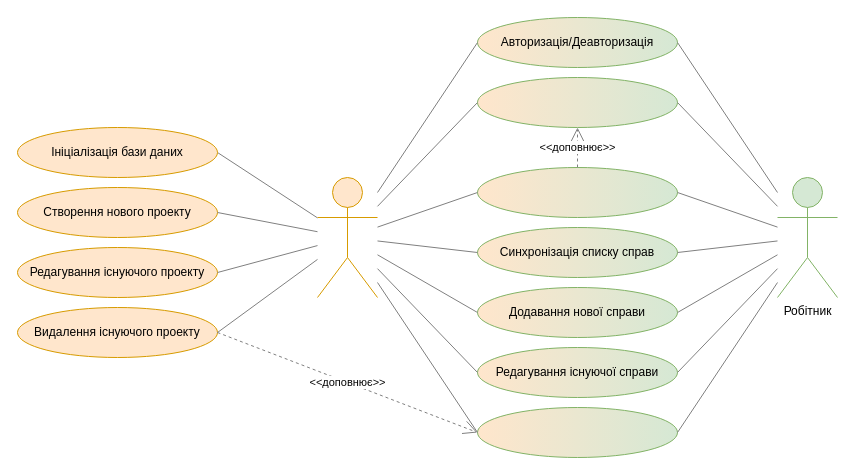
This 855x475 diagram has some shape labels left out. Here are the shapes that lost their labels. From the top down, the centre of each, then its label:
At (x=577, y=102): "Перегляд існуючих справ".
At (x=577, y=192): "Пошук існуючої справи за певними критеріями".
At (x=347, y=237): "Адміністратор".
At (x=577, y=432): "Видалення існуючої справи".
